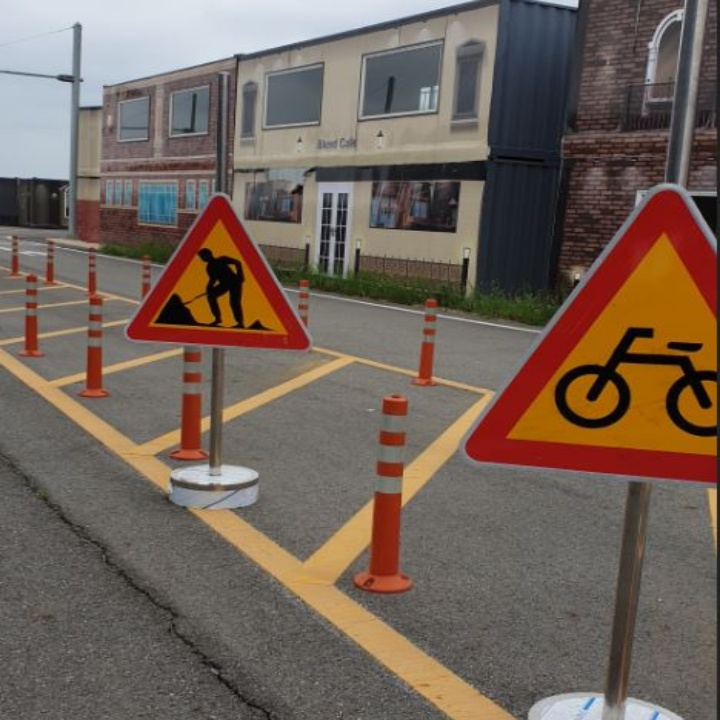bicycle: (547, 309, 720, 442)
const: (153, 233, 276, 334)
